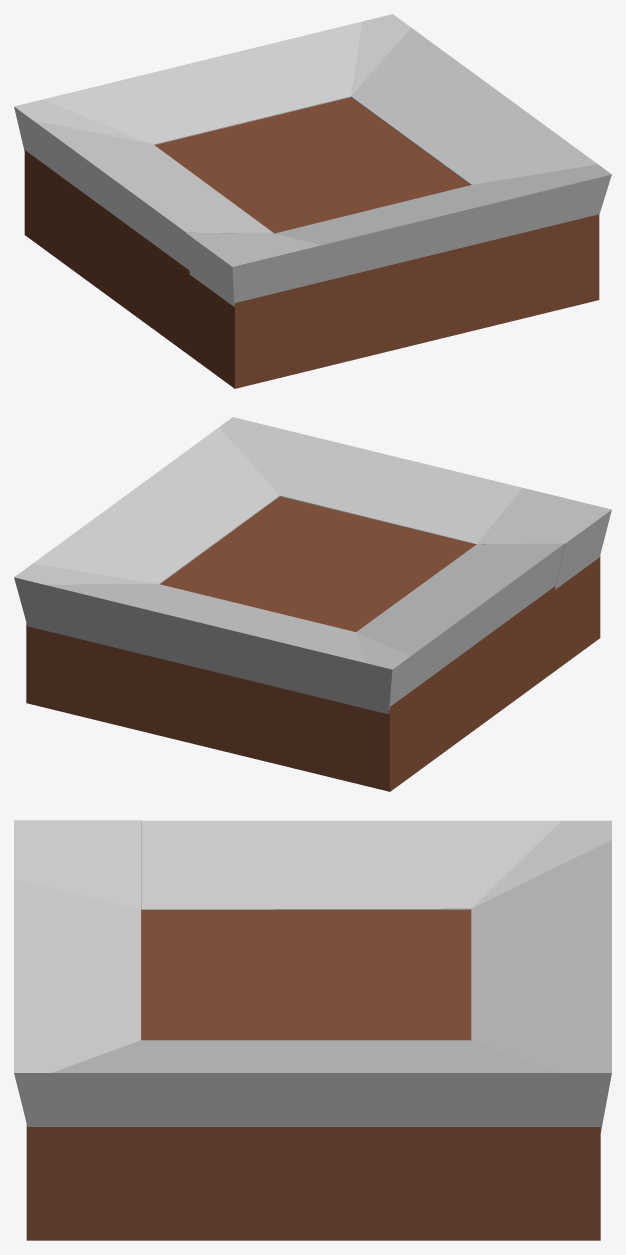
Rendered from Tufis1.fbx.
3 views of the same model, one above another, from view 1: azimuth 30°, elevation 25°; view 2: azimuth 150°, elevation 25°; view 3: azimuth 270°, elevation 25° (orthographic). The views are drawn at different scales.
Parts seen in each view (by area): view 1: Plane.272; view 2: Plane.272; view 3: Plane.272.
Part boxes in pixels (<box>): Plane.272: <box>14,14,611,388</box>; Plane.272: <box>14,417,611,791</box>; Plane.272: <box>14,820,611,1240</box>.
Bounding box in the file's own units: 2.08 × 0.6667 × 2.08.
